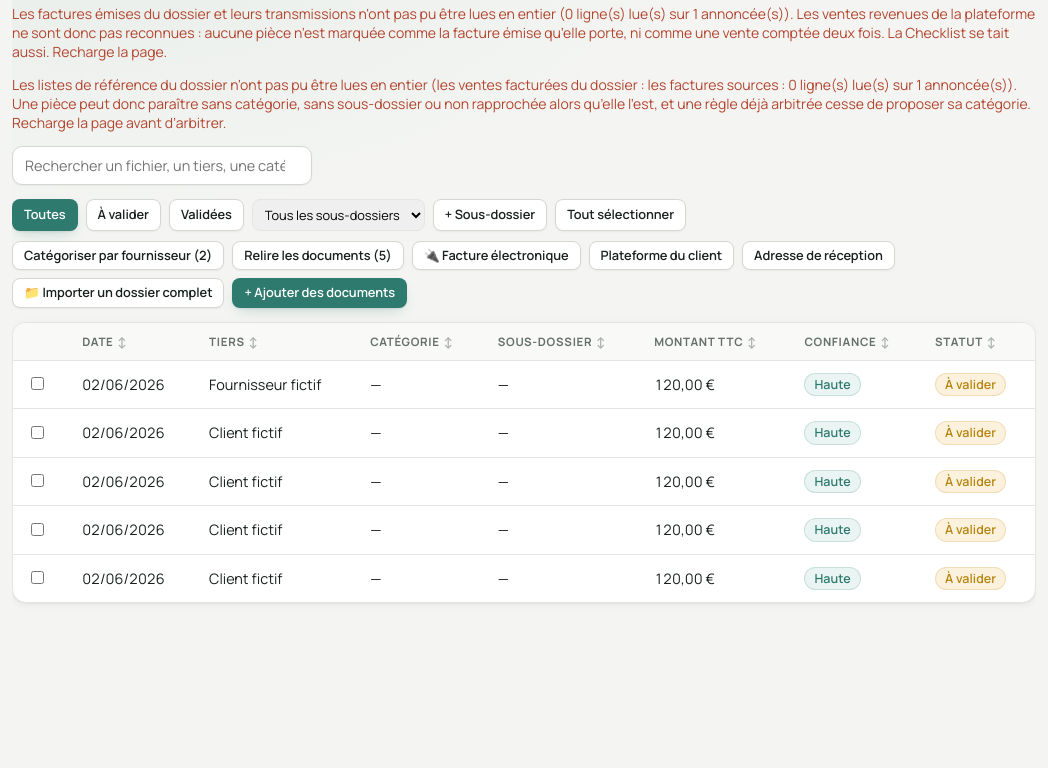
Test case: dans un dossier basculé : la sélection écarte ce que G3 refuserait, et le dit avant le clic › les factures émises lues en partie : de même
Click the button "Tout sélectionner" at (621, 215), box [555, 199, 686, 231]
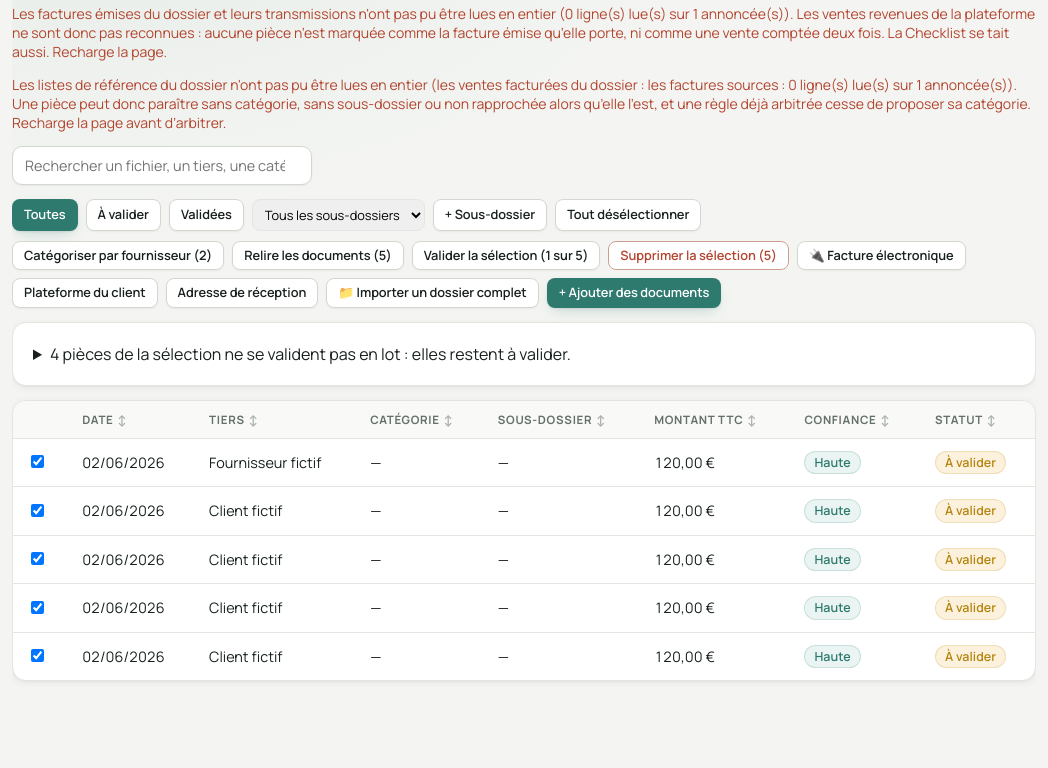
expect the button "Valider la sélection (1 sur 5)" is shown: met, box [412, 241, 600, 270]
